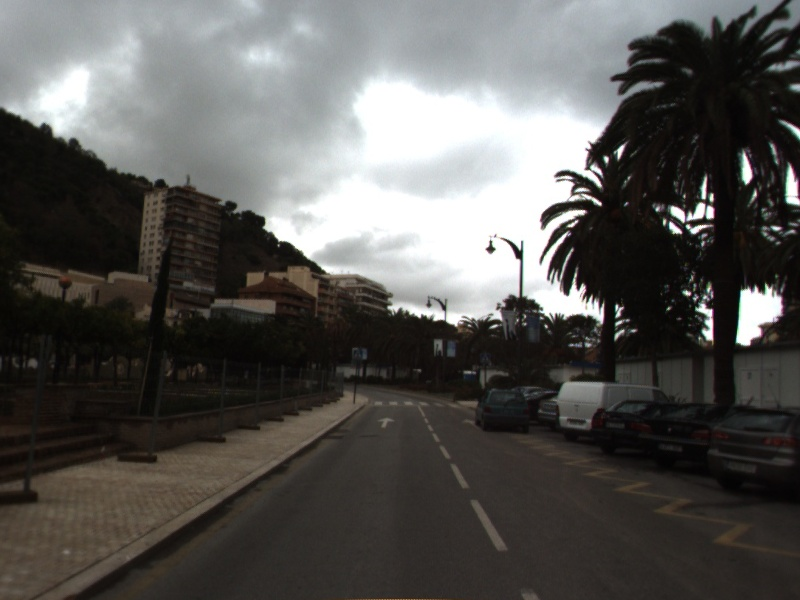STRAIGHT: (460, 417, 483, 431), (375, 416, 397, 429)
